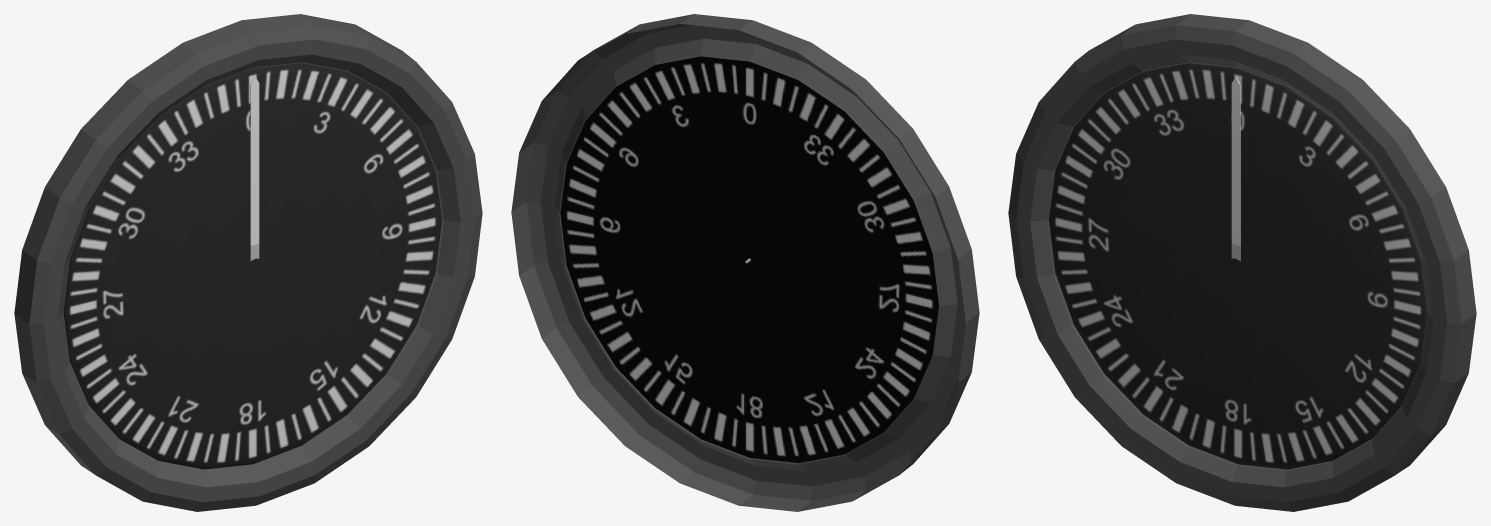
Rendered from Gauge_VOR.obj.
3 renders of one model, left to right at view 1: azimuth 30°, elevation 25°; view 2: azimuth 150°, elevation 25°; view 3: azimuth 330°, elevation 25°, orthographic.
Visible parts, largest first — view 1: Lens, Face, Rim, NeedleMain; view 2: Face, Rim; view 3: Lens, Face, Rim, NeedleMain.
Part boxes in pixels (box(x1,y1,x2,y2)): Lens: box(63, 63, 443, 470); Face: box(63, 63, 441, 469); Rim: box(14, 14, 482, 511); NeedleMain: box(250, 77, 259, 245); Face: box(560, 56, 938, 462); Rim: box(511, 14, 979, 511); Lens: box(1047, 63, 1427, 470); Face: box(1049, 63, 1427, 469); Rim: box(1008, 14, 1476, 511); NeedleMain: box(1231, 77, 1240, 245).
Bounding box in the file's own units: 0.0822 × 0.0822 × 0.00794.
